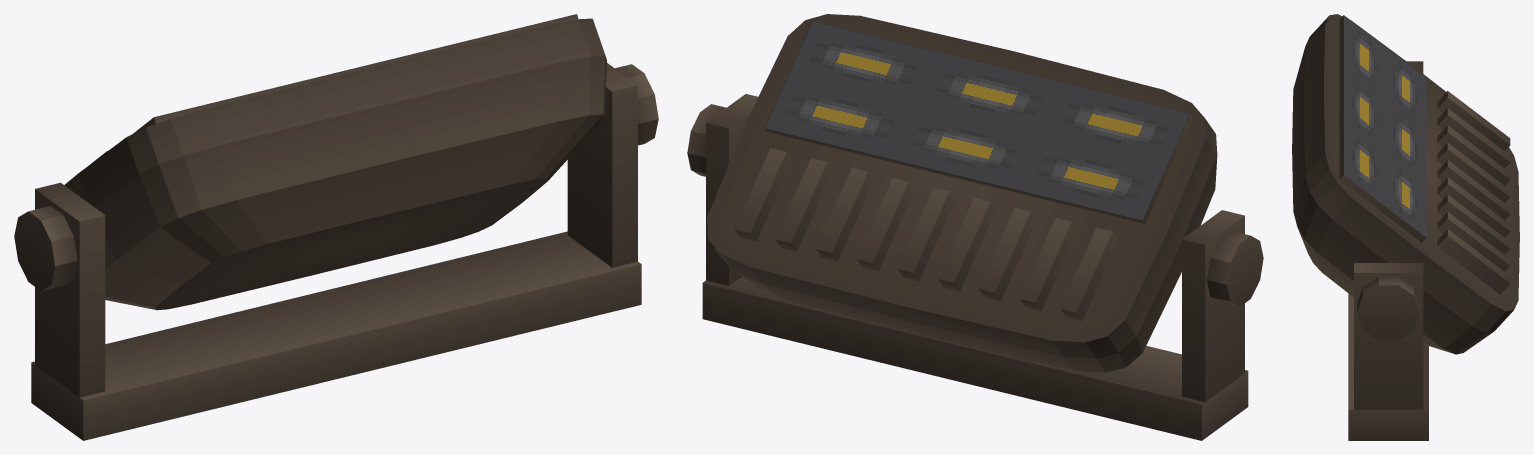
The model's file is floodlight_lithdsxf2yk_g.obj.
3 renders of one model, left to right at view 1: azimuth 30°, elevation 25°; view 2: azimuth 150°, elevation 25°; view 3: azimuth 270°, elevation 25°, orthographic. The views are drawn at different scales.
Visible parts, largest first — view 1: fixture; view 2: fixture; view 3: fixture.
Part boxes in pixels (box(x1,y1,x2,y2)): fixture: box(14, 14, 658, 440); fixture: box(687, 14, 1263, 440); fixture: box(1292, 14, 1519, 440).
Size of the model in its own units: 0.5848 by 0.2947 by 0.2463.
